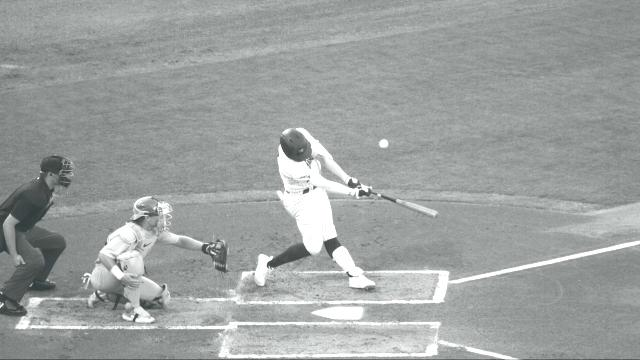ball: (378, 138, 389, 148)
bat: (372, 189, 438, 219)
